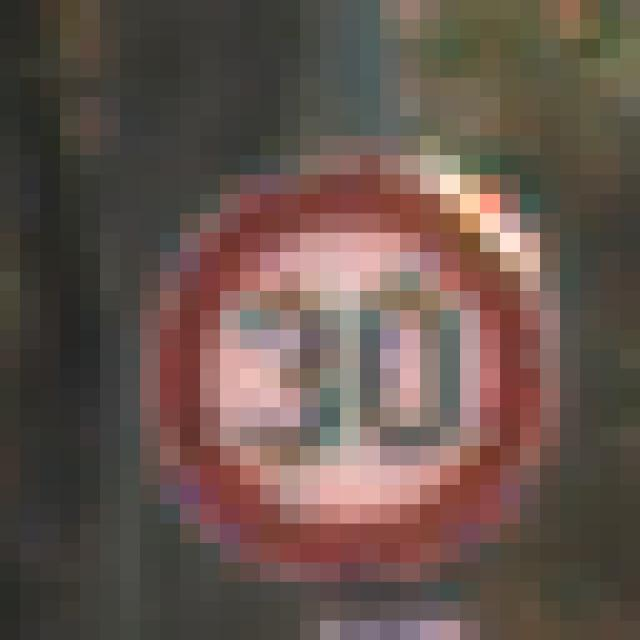Speed Limit -30-: (110, 107, 510, 533)
